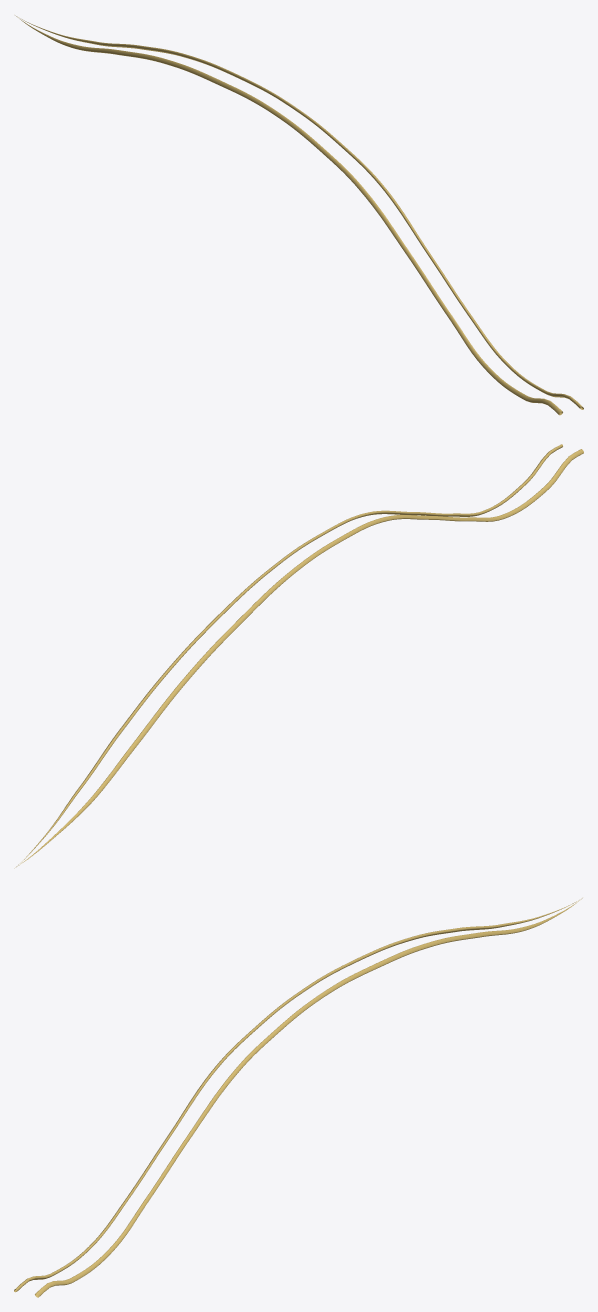
3 views of the same model, one above another, from view 1: azimuth 30°, elevation 25°; view 2: azimuth 150°, elevation 25°; view 3: azimuth 330°, elevation 25° (orthographic).
Visible parts, largest first — view 1: 皮质脊髓侧束; view 2: 皮质脊髓侧束; view 3: 皮质脊髓侧束.
Boxes of the visible parts, left/top/right/bottom form: 皮质脊髓侧束: left=15, top=15, right=583, bottom=415; 皮质脊髓侧束: left=14, top=444, right=583, bottom=868; 皮质脊髓侧束: left=14, top=898, right=582, bottom=1297.
Size of the model in its own units: 0.0185 by 0.0768 by 0.722.
